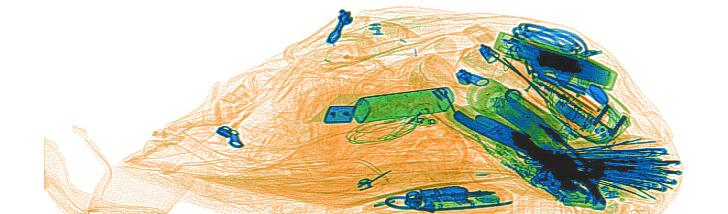battery: (493, 94, 550, 139)
